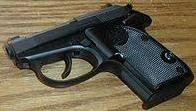gun: (1, 1, 196, 111)
